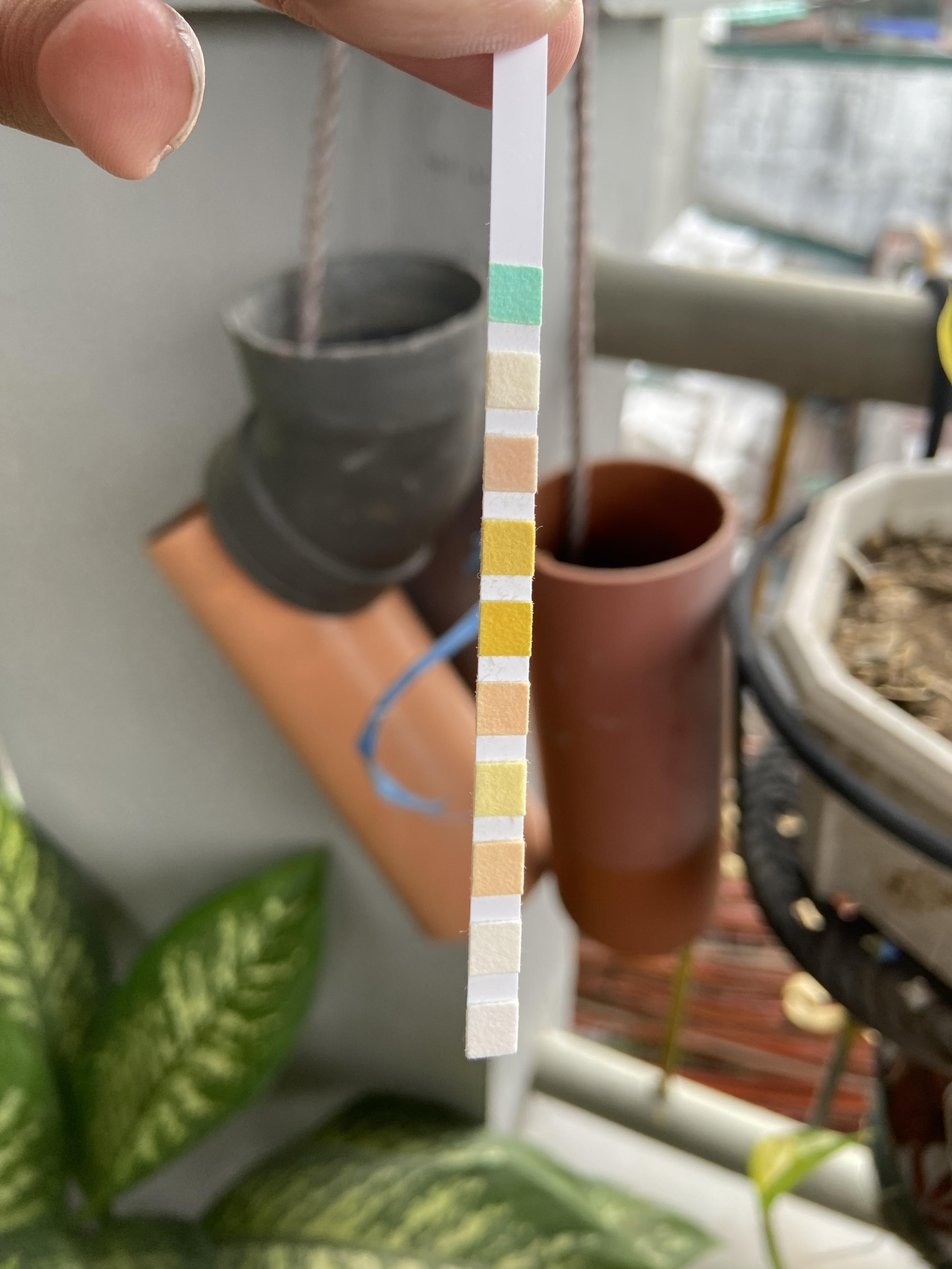Bilirubin: (487, 354, 537, 409)
Blood: (482, 602, 532, 655)
Glucose: (490, 267, 541, 324)
Ketone: (485, 436, 535, 490)
Leukocytes: (466, 1005, 517, 1056)
Nitrite: (469, 922, 520, 973)
Protein: (476, 764, 526, 815)
SpGravity: (482, 520, 533, 573)
Urobilinogen: (472, 842, 523, 893)
pH: (477, 683, 527, 734)
strip: (468, 61, 547, 1059)
